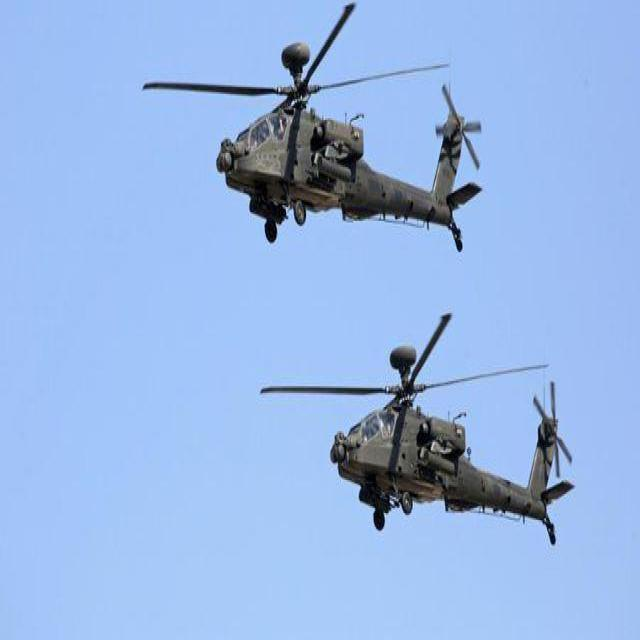MIL_HELO: (252, 311, 606, 570), (137, 2, 484, 260)
